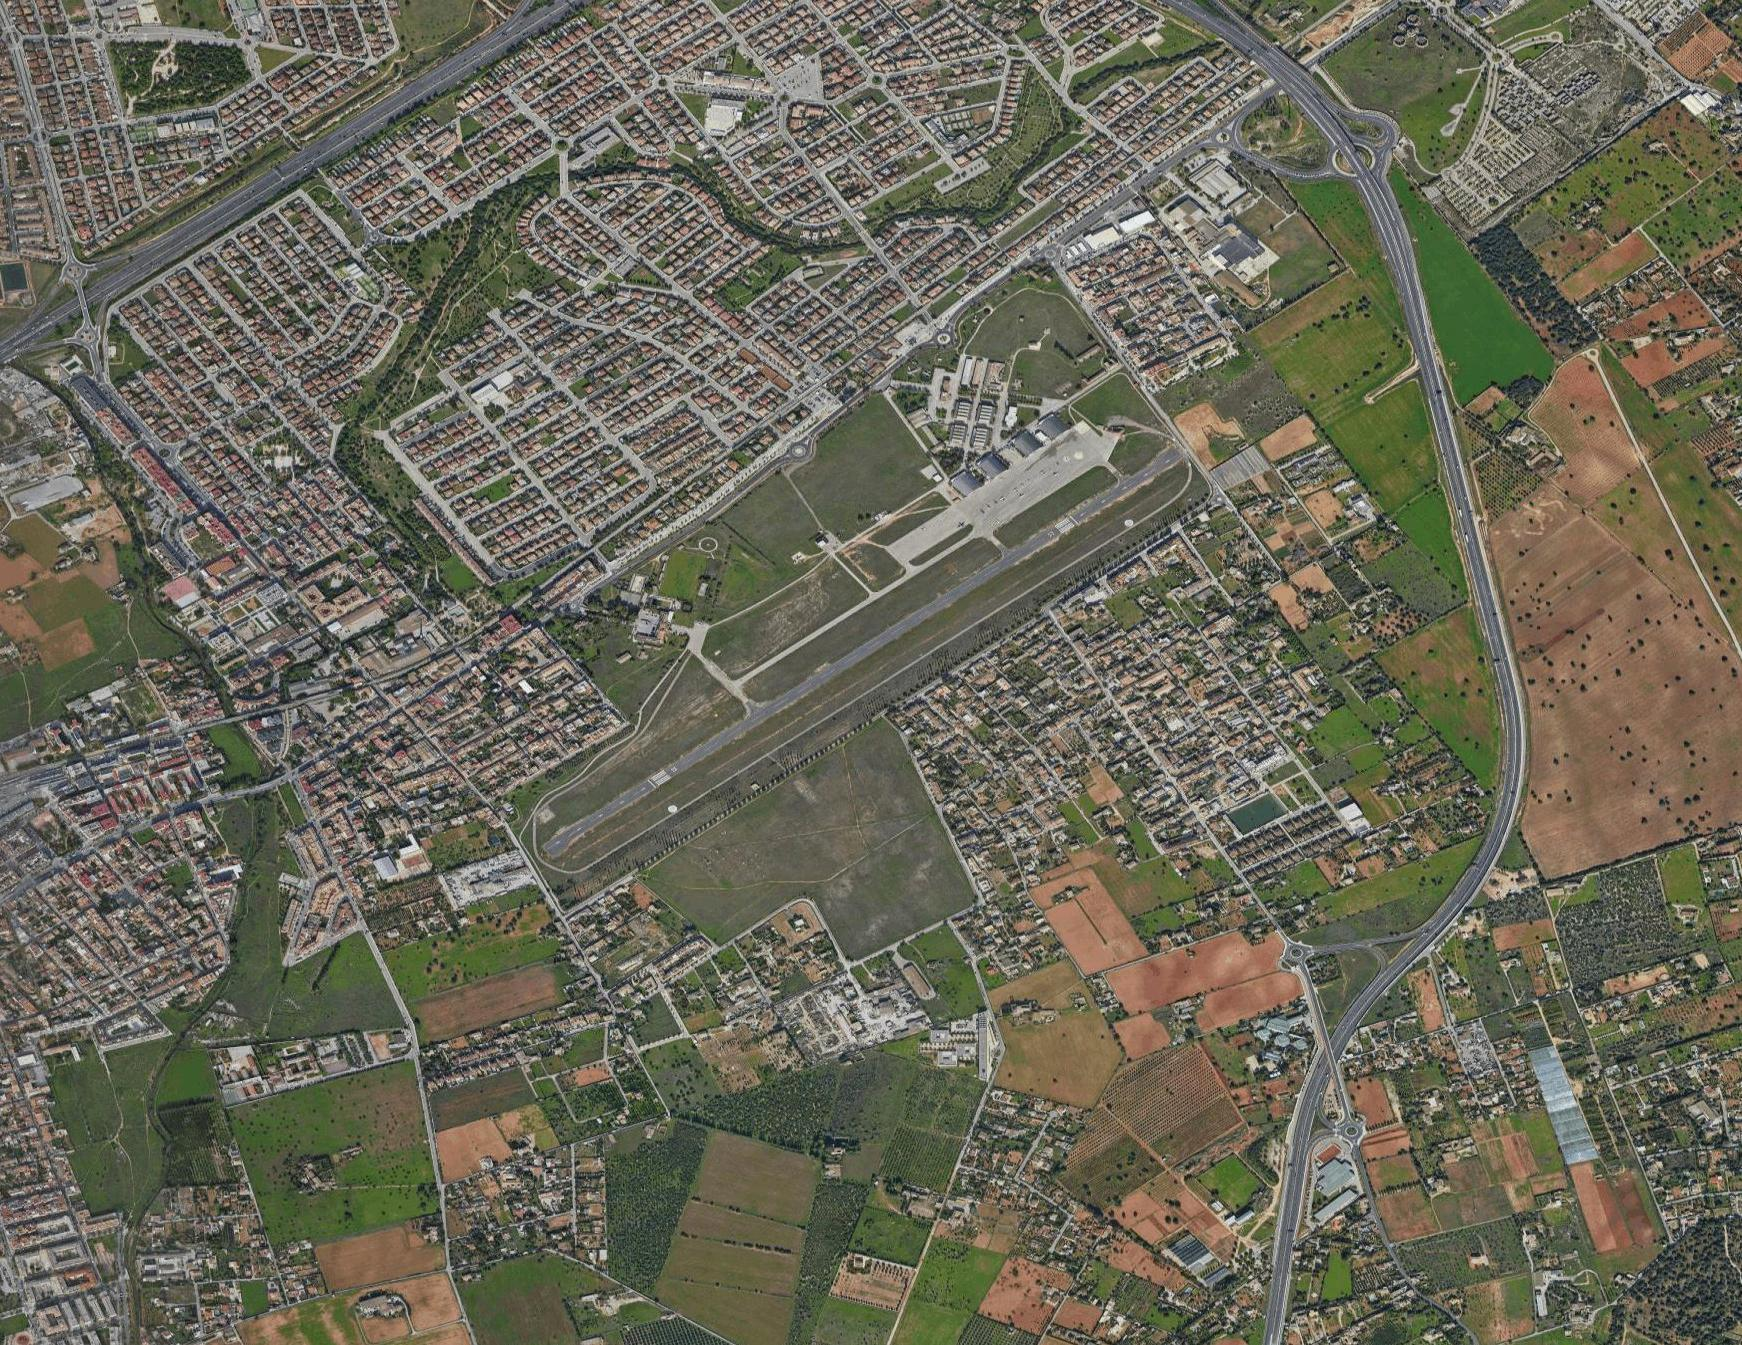airport: (530, 387, 1190, 867)
motorway: (259, 1, 582, 198), (1337, 763, 1524, 1029), (1, 177, 259, 370), (1164, 1, 1385, 186), (1365, 189, 1468, 504), (1266, 1030, 1352, 1345), (1457, 509, 1522, 764)
